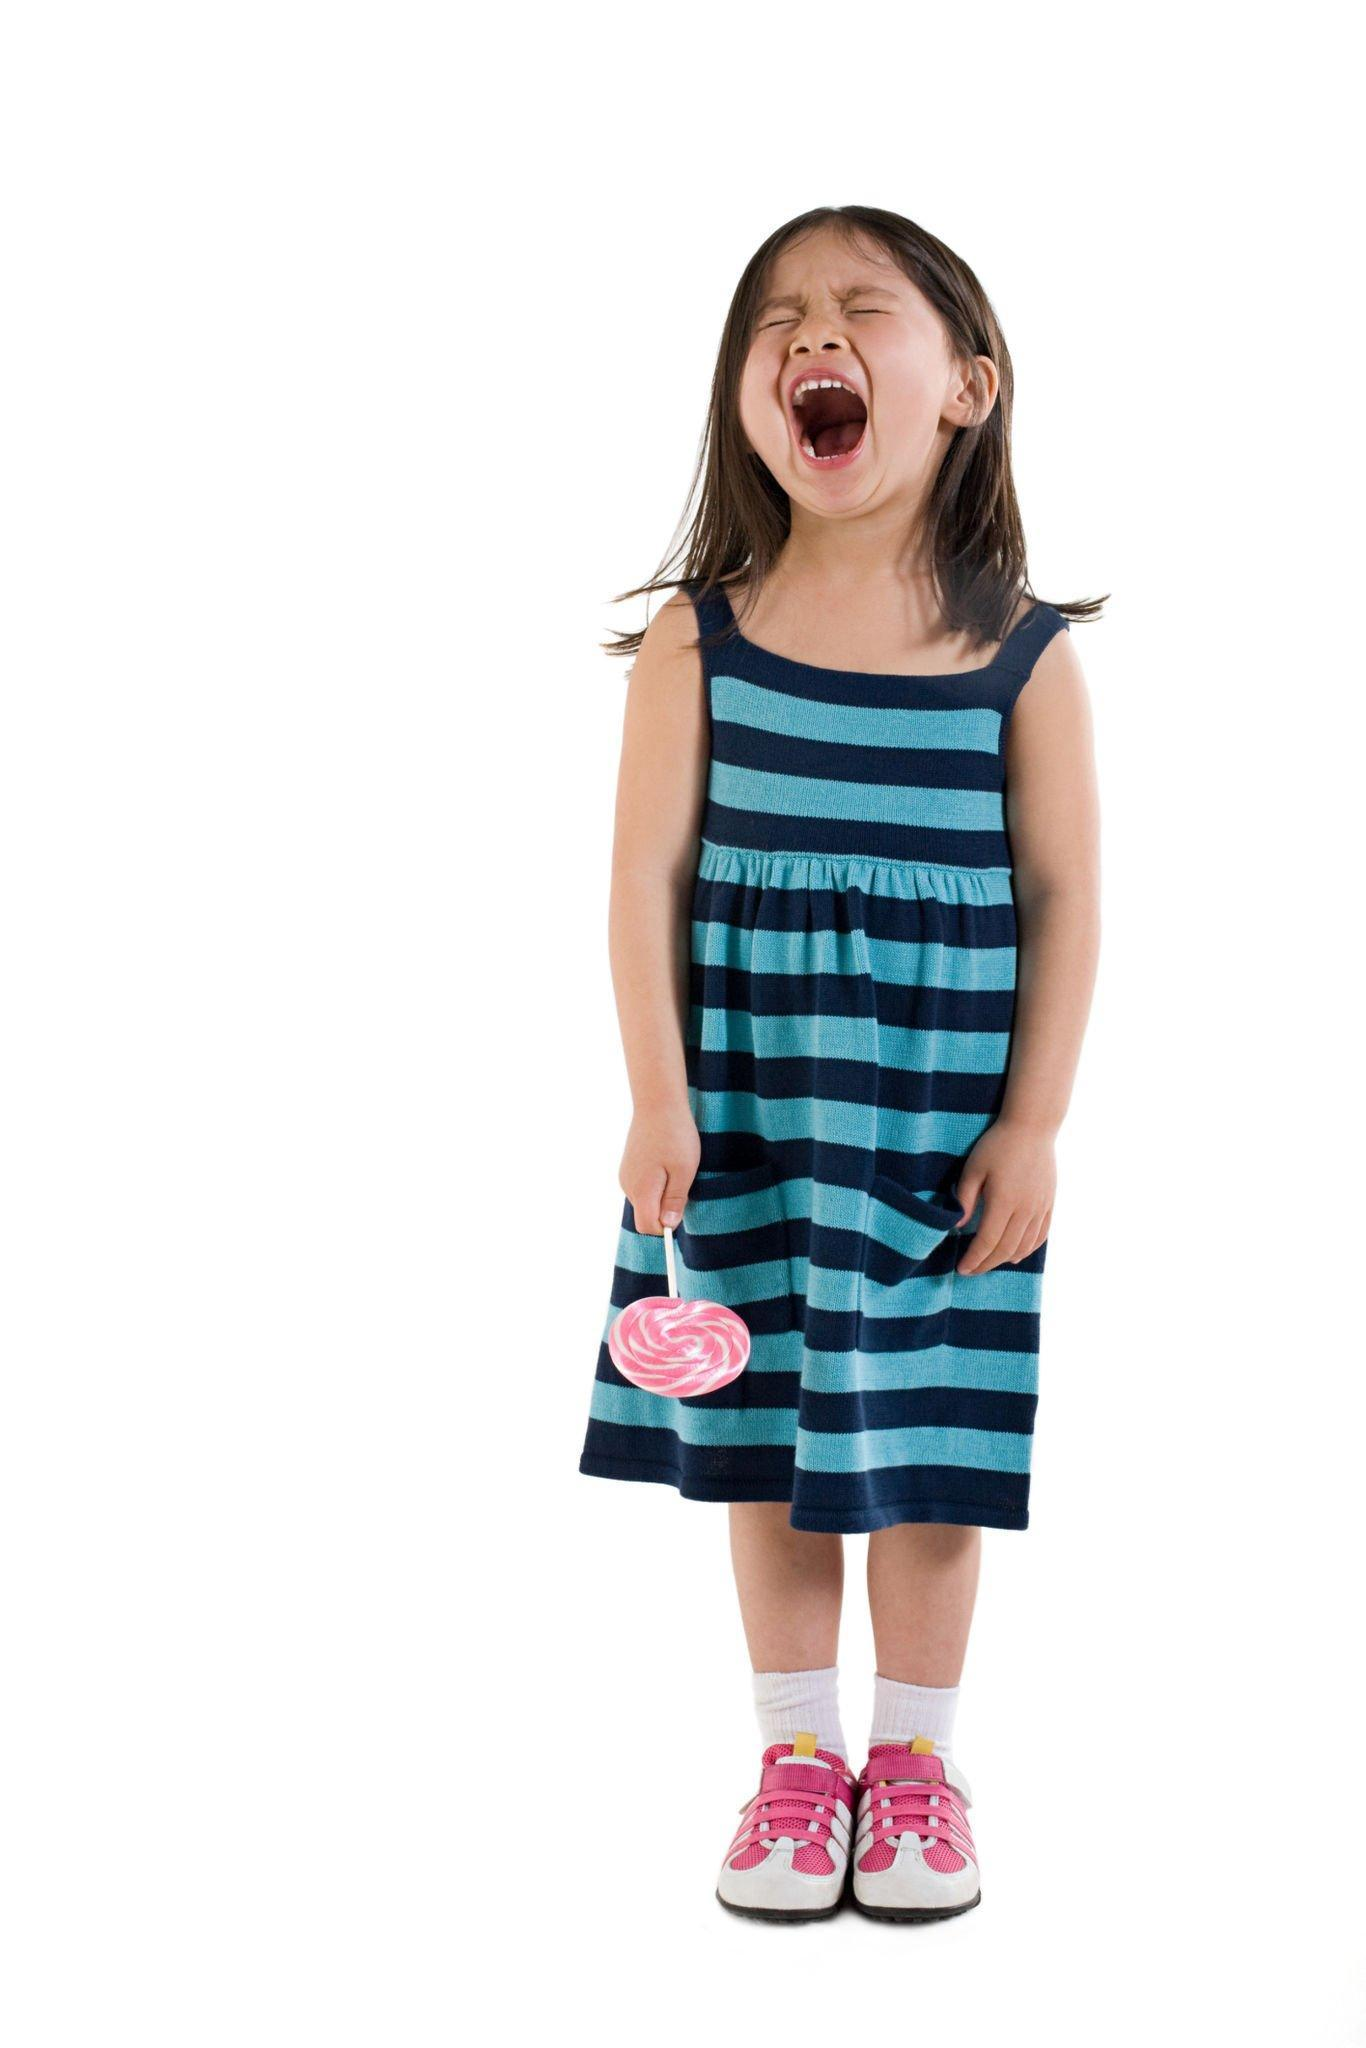Healthy: (701, 200, 1018, 559)
